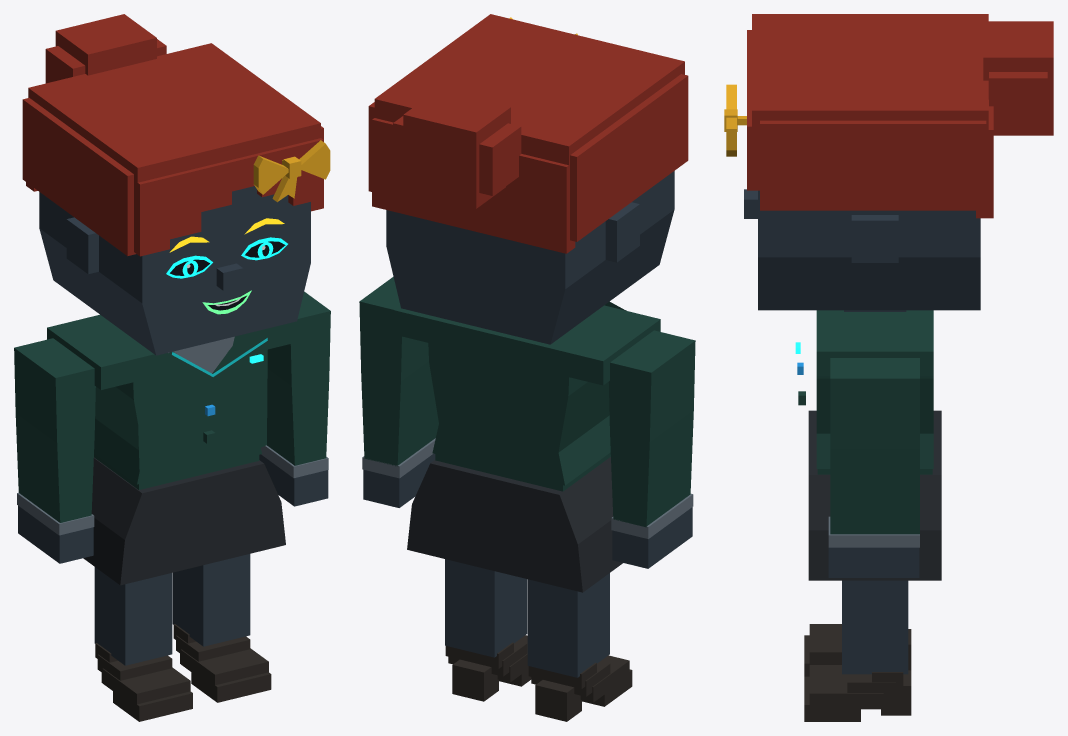
File: cli_seed2371.glb
The picture shows the model from 3 angles, left to right: view 1: azimuth 30°, elevation 25°; view 2: azimuth 150°, elevation 25°; view 3: azimuth 270°, elevation 25°; orthographic projection. The views are drawn at different scales.
Parts seen in each view (by area): view 1: char_hair_visual, char_torso_visual, char_head_visual, char_arm_negx_visual, char_leg_negx_visual, char_leg_posx_visual, char_arm_posx_visual, char_bow_visual, char_hand_negx_visual, char_hand_posx_visual, char_eye_negx_visual, char_eye_posx_visual; view 2: char_hair_visual, char_torso_visual, char_head_visual, char_arm_negx_visual, char_arm_posx_visual, char_leg_negx_visual, char_leg_posx_visual, char_hand_negx_visual, char_hand_posx_visual; view 3: char_hair_visual, char_head_visual, char_arm_posx_visual, char_torso_visual, char_leg_posx_visual, char_hand_posx_visual, char_leg_negx_visual, char_bow_visual.
Boxes of the visible parts, x1,y1,x2,y2 form: char_hair_visual: (22, 14, 323, 256); char_torso_visual: (47, 314, 297, 585); char_head_visual: (39, 186, 310, 355); char_arm_negx_visual: (14, 338, 95, 535); char_leg_negx_visual: (94, 567, 192, 721); char_leg_posx_visual: (172, 554, 271, 702); char_arm_posx_visual: (261, 291, 330, 477); char_bow_visual: (253, 140, 330, 202); char_hand_negx_visual: (18, 505, 93, 563); char_hand_posx_visual: (259, 454, 328, 506); char_eye_negx_visual: (166, 255, 212, 278); char_eye_posx_visual: (241, 237, 287, 260); char_hair_visual: (368, 14, 688, 253); char_torso_visual: (394, 301, 660, 592); char_head_visual: (386, 171, 674, 344); char_arm_negx_visual: (608, 330, 695, 538); char_arm_posx_visual: (359, 276, 438, 478); char_leg_negx_visual: (527, 573, 632, 721); char_leg_posx_visual: (445, 559, 531, 701); char_hand_negx_visual: (612, 507, 692, 568); char_hand_posx_visual: (363, 453, 435, 507); char_hair_visual: (747, 14, 1053, 218); char_head_visual: (744, 189, 980, 311); char_arm_posx_visual: (828, 358, 919, 547); char_torso_visual: (797, 310, 941, 580); char_leg_posx_visual: (804, 580, 911, 721); char_hand_posx_visual: (828, 547, 919, 577); char_leg_negx_visual: (804, 624, 911, 676); char_bow_visual: (724, 84, 746, 156).
Size of the model in its own units: 0.88 by 1.83 by 0.843.
